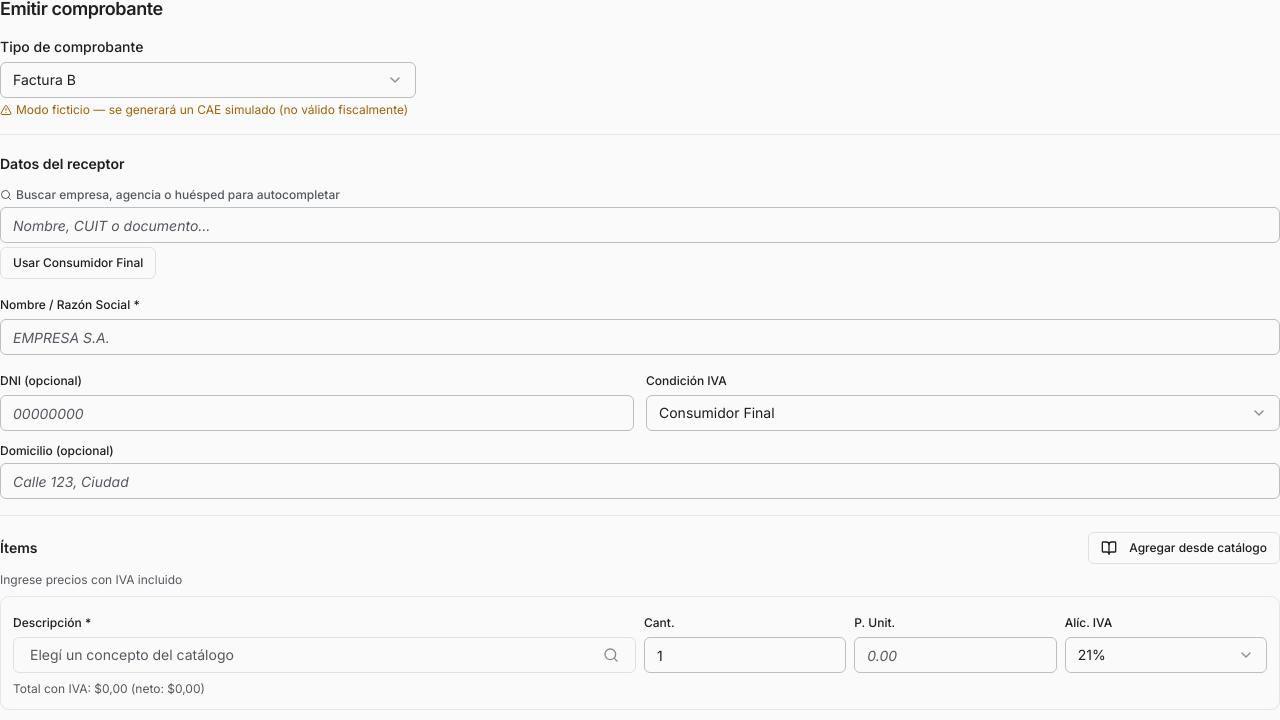
EmitirFacturaDialog — buscador de catálogo inline por renglón › tocar la fila (en cualquier parte del cuadro) abre la búsqueda y elegir un concepto lo carga en esa misma fila
The image size is (1280, 720).
Click the dropdown with test id "item-description-0": point(132, 654) left=13, top=637, right=636, bottom=673
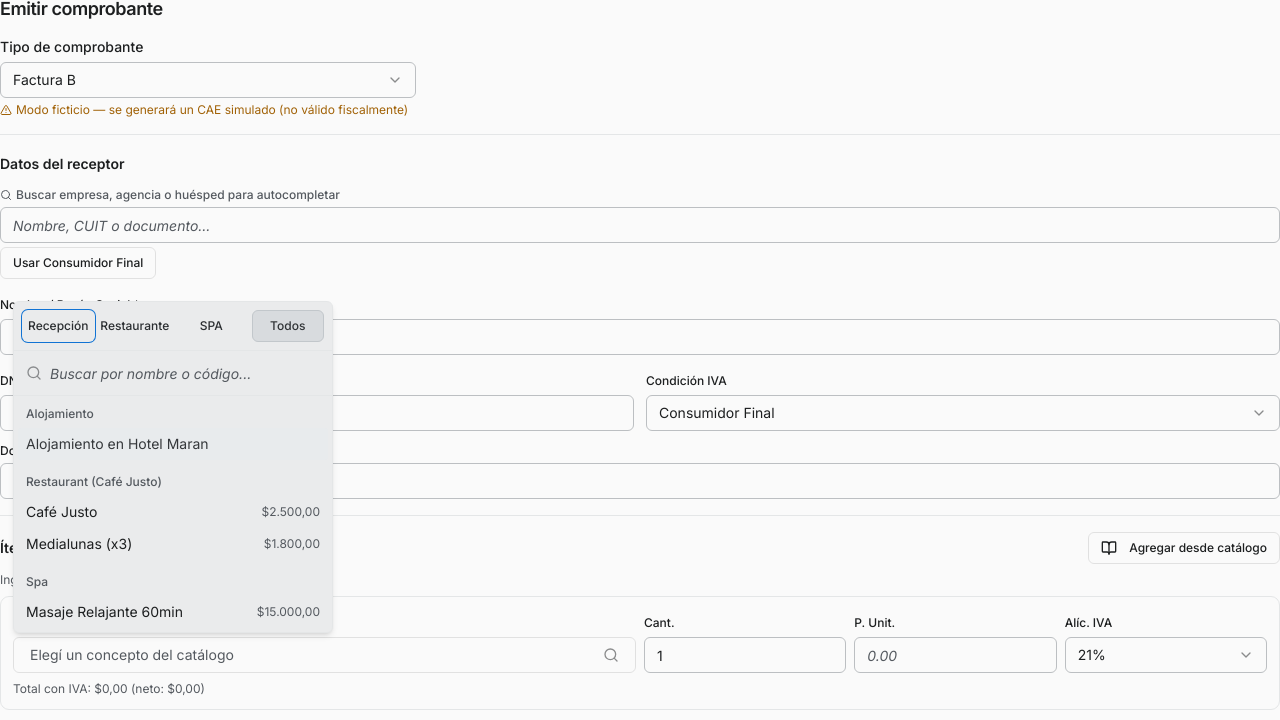
Click the option with test id "item-catalog-option-0-mi-1": point(62, 512) left=26, top=503, right=320, bottom=520
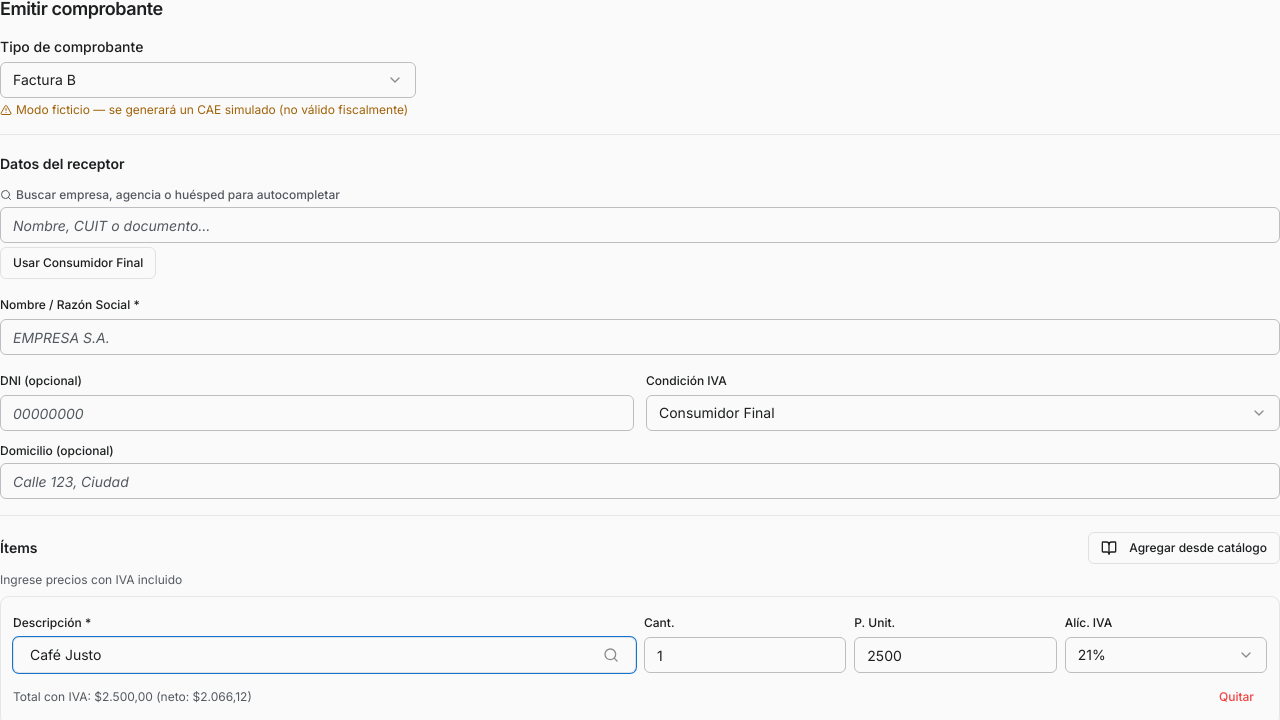
Now the dropdown with test id "item-description-0" reads "Café Justo", box left=13, top=637, right=636, bottom=673
Now the number field with test id "item-price-0" holds "2500", box left=854, top=637, right=1057, bottom=673
